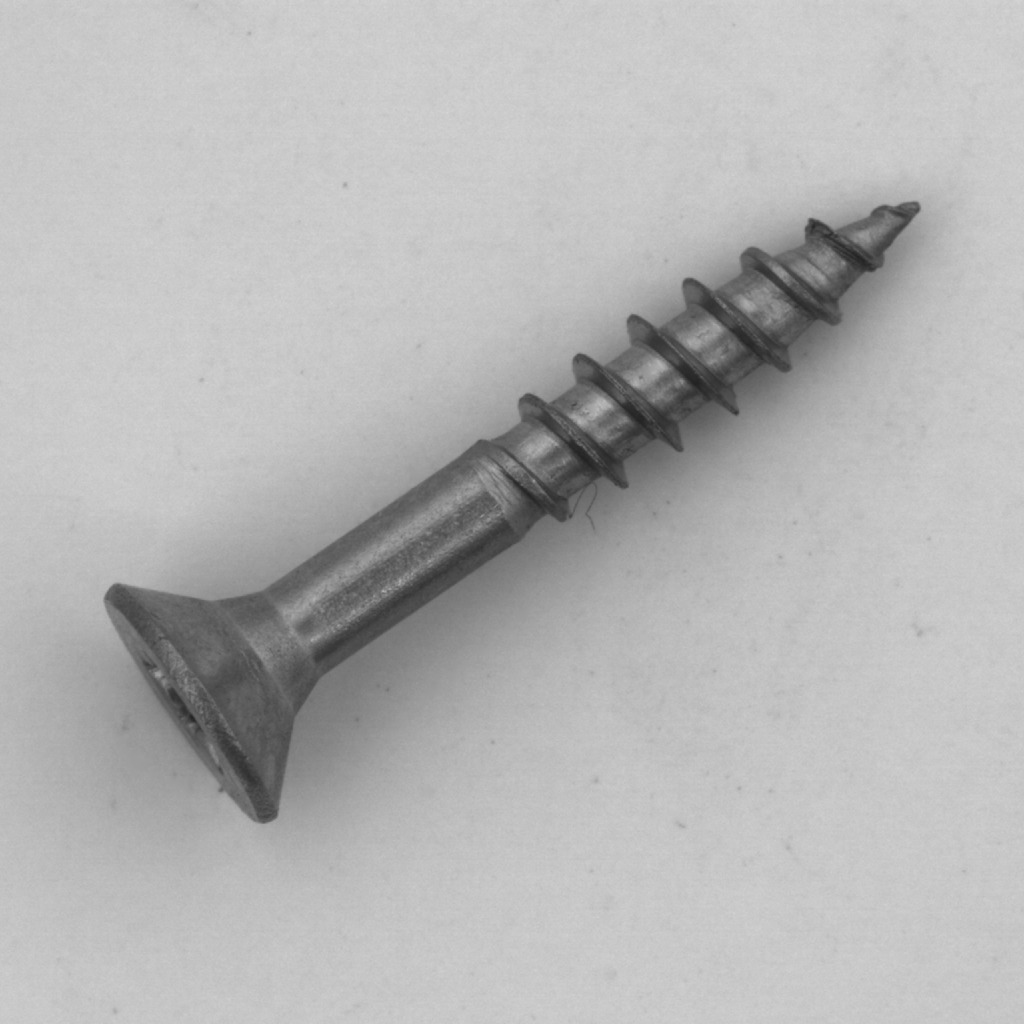good: (79, 164, 949, 843)
